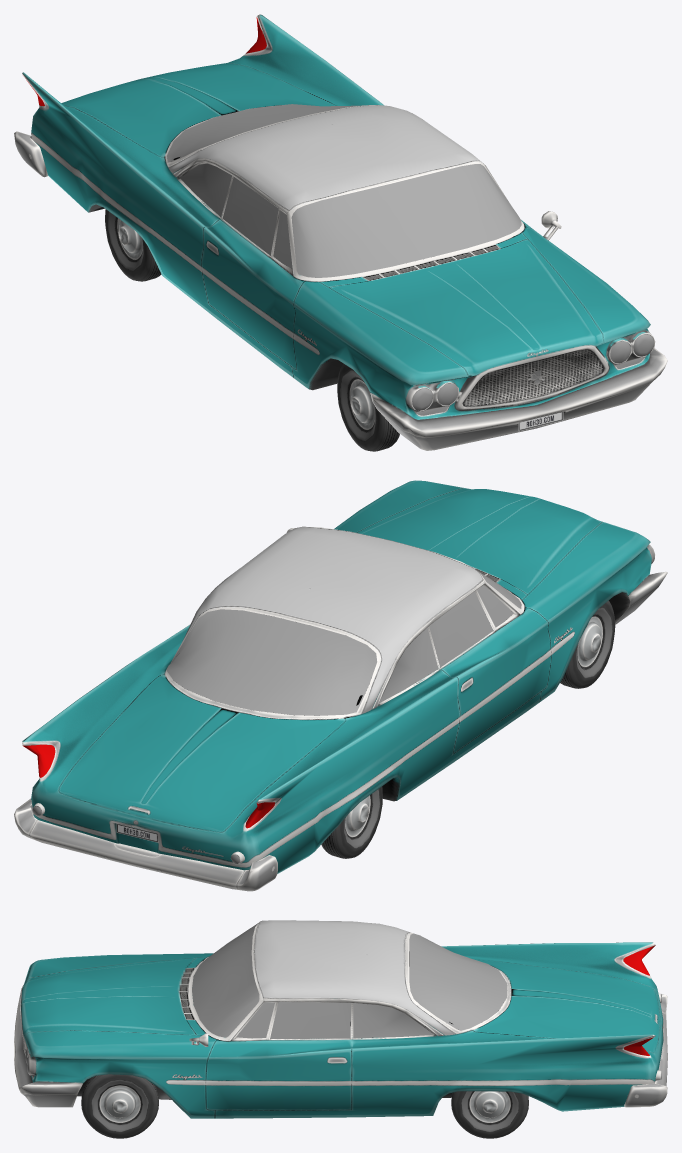
The model's file is chrysler-low-poly.glb.
The picture shows the model from 3 angles, top to bottom: view 1: azimuth 30°, elevation 25°; view 2: azimuth 150°, elevation 25°; view 3: azimuth 270°, elevation 25°; orthographic projection. The views are drawn at different scales.
Visible parts, largest first — view 1: Object_3, Object_4, Object_2; view 2: Object_3, Object_4, Object_2; view 3: Object_3, Object_4, Object_2.
Boxes of the visible parts, <box> form: Object_3: <box>14,14,667,450</box>; Object_4: <box>25,17,654,415</box>; Object_2: <box>105,209,399,451</box>; Object_3: <box>14,480,667,891</box>; Object_4: <box>23,571,521,863</box>; Object_2: <box>321,600,615,858</box>; Object_3: <box>14,920,667,1118</box>; Object_4: <box>25,923,661,1078</box>; Object_2: <box>81,1074,528,1138</box>.
Bounding box in the file's own units: 216 × 140 × 573.
3 materials, 3 textured.
